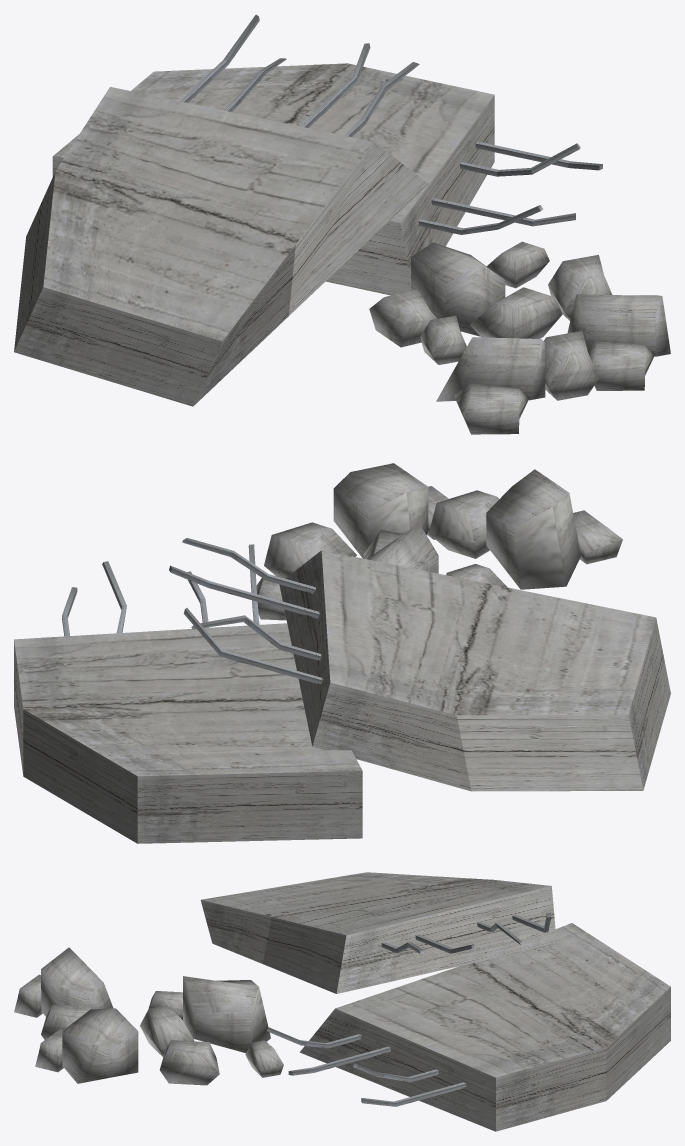
The model's file is crash.fbx.
The picture shows the model from 3 angles, top to bottom: view 1: azimuth 30°, elevation 25°; view 2: azimuth 150°, elevation 25°; view 3: azimuth 270°, elevation 25°; orthographic projection. The views are drawn at different scales.
Visible parts, largest first — view 1: crash; view 2: crash; view 3: crash.
Part boxes in pixels (x1,y1,x2,y2): crash: (14,14,670,434); crash: (14,463,670,843); crash: (14,872,670,1131).
Size of the model in its own units: 3.04 by 0.8755 by 3.72.
